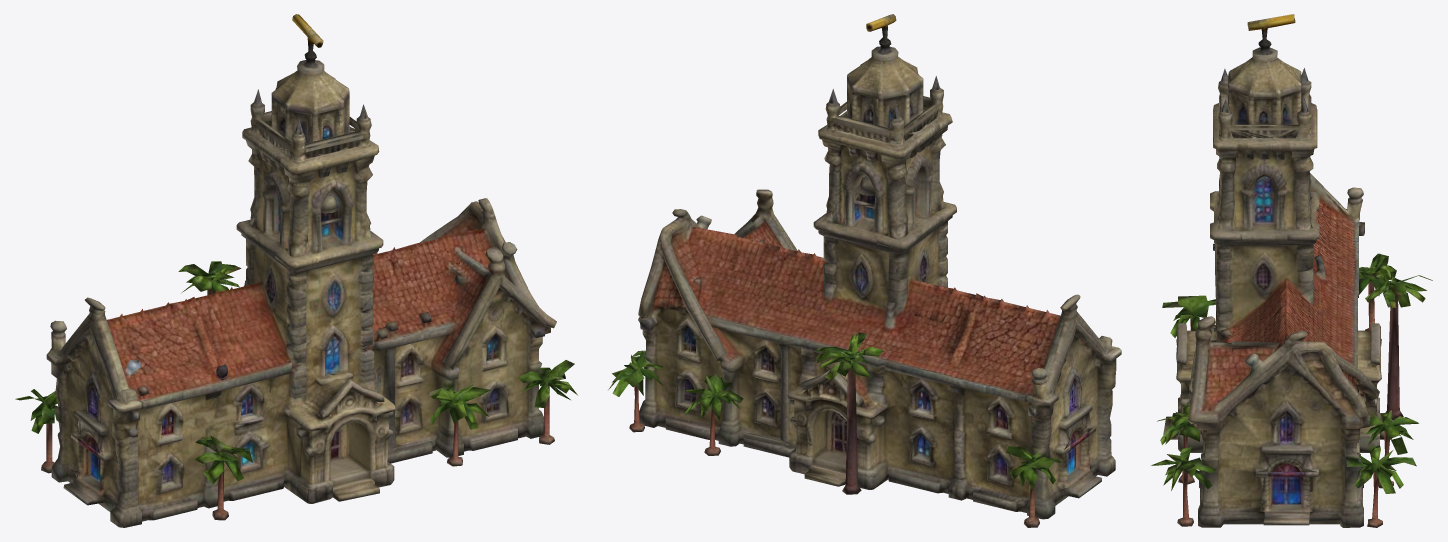
Rendered from academia_tripo_2.glb.
The picture shows the model from 3 angles, left to right: view 1: azimuth 30°, elevation 25°; view 2: azimuth 150°, elevation 25°; view 3: azimuth 270°, elevation 25°; orthographic projection. The views are drawn at different scales.
Parts seen in each view (by area): view 1: tripo_node_b67a190c-c195-4480-9b0a-0411267dcc91; view 2: tripo_node_b67a190c-c195-4480-9b0a-0411267dcc91; view 3: tripo_node_b67a190c-c195-4480-9b0a-0411267dcc91.
Part boxes in pixels (x1,y1,x2,y2): tripo_node_b67a190c-c195-4480-9b0a-0411267dcc91: (15, 14, 577, 527); tripo_node_b67a190c-c195-4480-9b0a-0411267dcc91: (608, 14, 1121, 527); tripo_node_b67a190c-c195-4480-9b0a-0411267dcc91: (1151, 14, 1432, 527).
Bounding box in the file's own units: 0.9839 × 0.8993 × 0.5487.
Materials: 1 (1 with a texture image).
